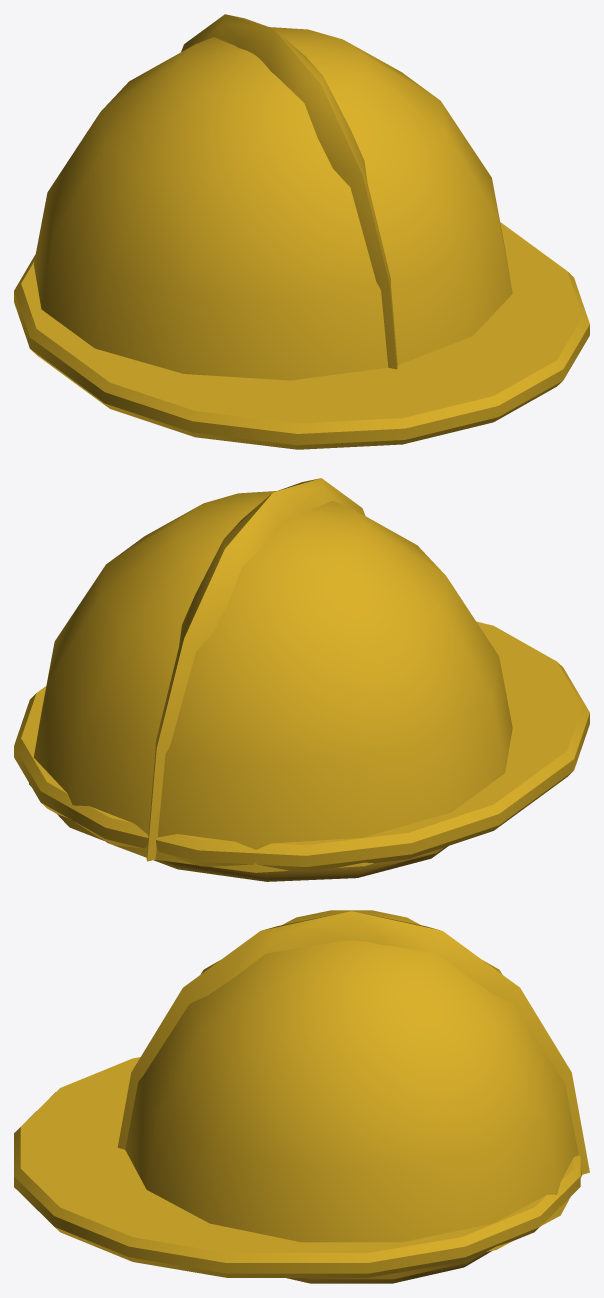
File: 100_casque_chantier.fbx
The picture shows the model from 3 angles, top to bottom: view 1: azimuth 30°, elevation 25°; view 2: azimuth 150°, elevation 25°; view 3: azimuth 270°, elevation 25°; orthographic projection. The views are drawn at different scales.
Parts seen in each view (by area): view 1: Casque; view 2: Casque; view 3: Casque.
Part boxes in pixels (x1,y1,x2,y2): Casque: (14,14,589,449); Casque: (14,478,589,881); Casque: (14,910,589,1283).
Size of the model in its own units: 0.448 by 0.28 by 0.504.
1 material, 1 textured.
